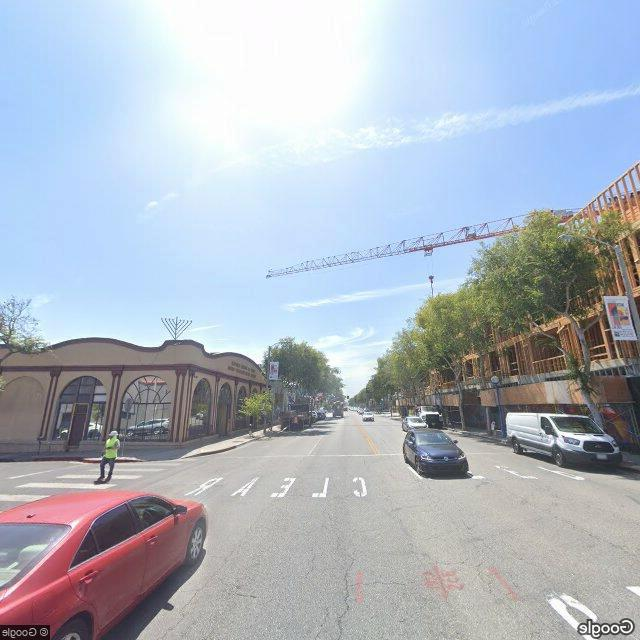pothole: (331, 544, 361, 638)
